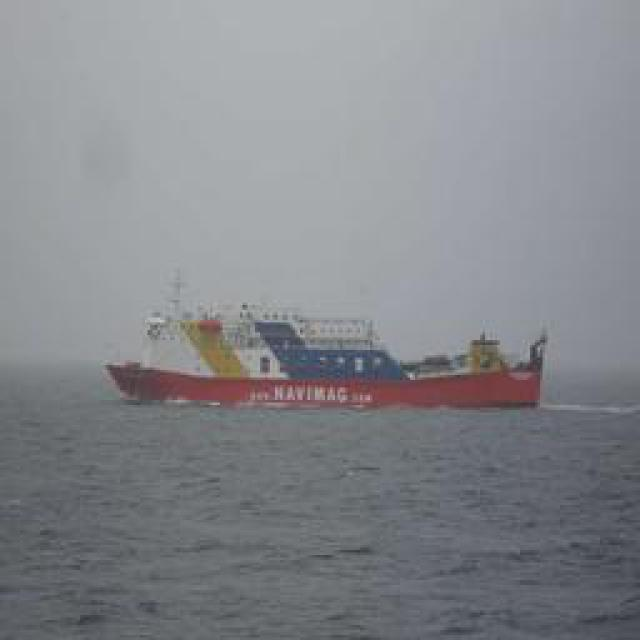Ship: (120, 315, 548, 410)
